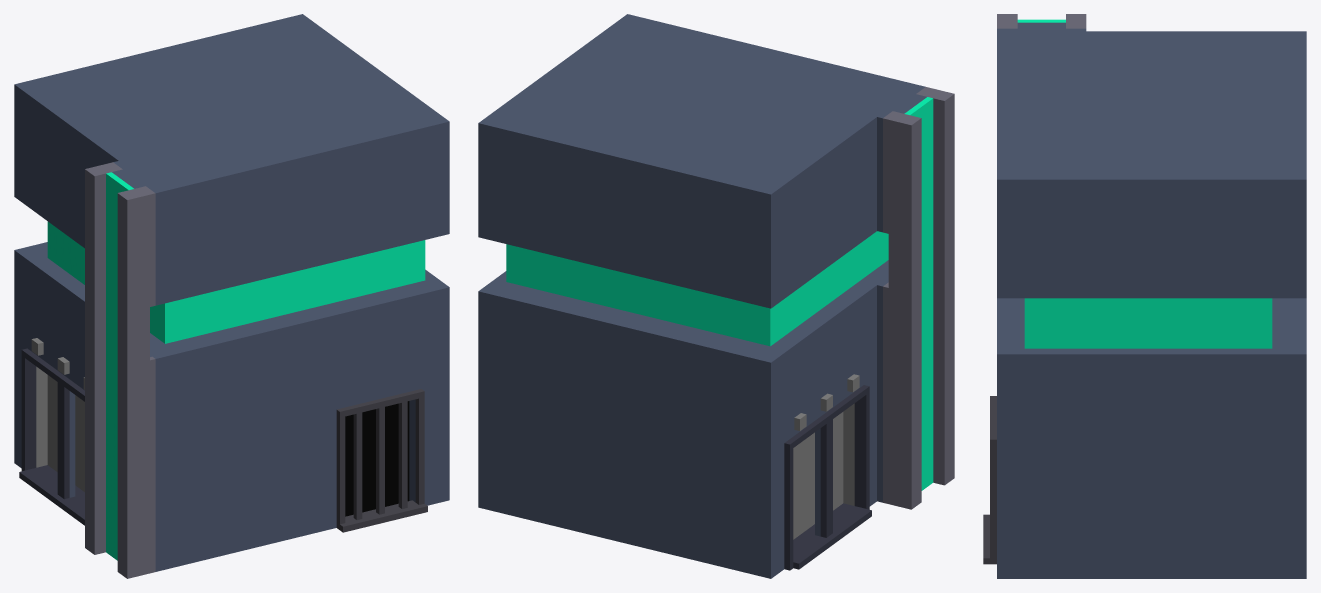
The model's file is Building005(1).obj.
The picture shows the model from 3 angles, left to right: view 1: azimuth 30°, elevation 25°; view 2: azimuth 150°, elevation 25°; view 3: azimuth 270°, elevation 25°; orthographic projection. The views are drawn at different scales.
Size of the model in its own units: 5.7 by 6.4 by 4.7.
Materials: 1 (1 with a texture image).
